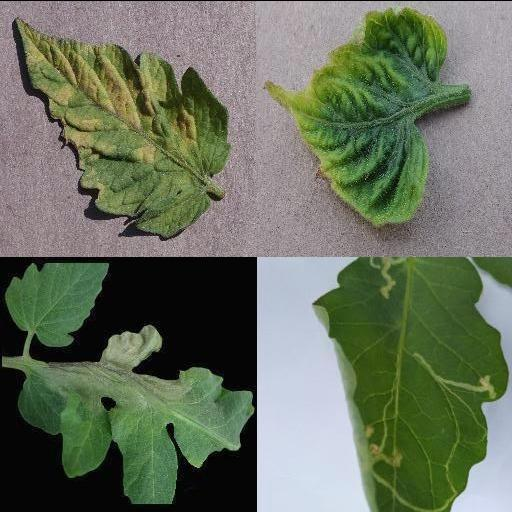Healthy: (6, 262, 110, 348)
Late Blight: (18, 324, 256, 502)
Leaf Miner: (312, 256, 508, 512)
Leaf Mold: (13, 18, 233, 238)
Yellow Leaf Curl Virus: (264, 4, 448, 224)
